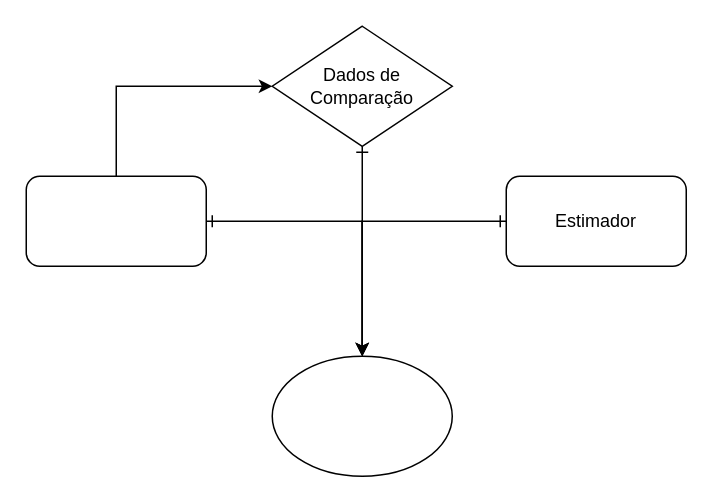
Image size: 713x503. Some labels were removed from this diagram. Here are the shapes that lost their labels. From the top down, the centre of each, then its label:
At pixel 115 220: "Gerador".
At pixel 361 415: "Métrica".
